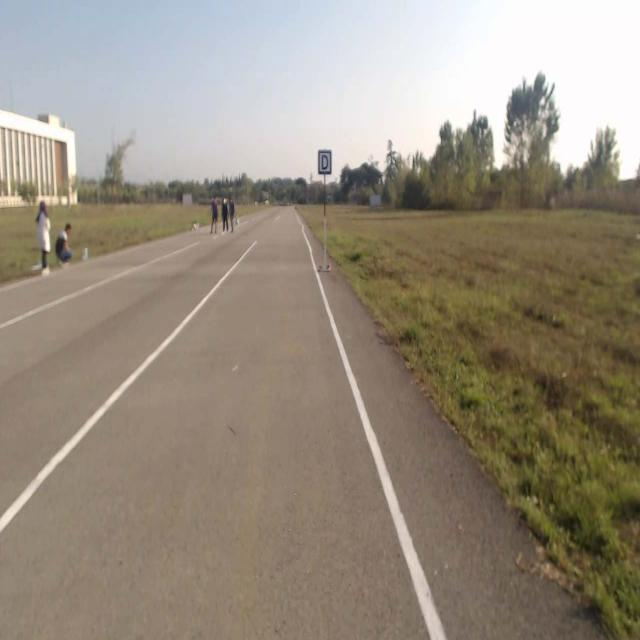durak: (318, 149, 332, 175)
